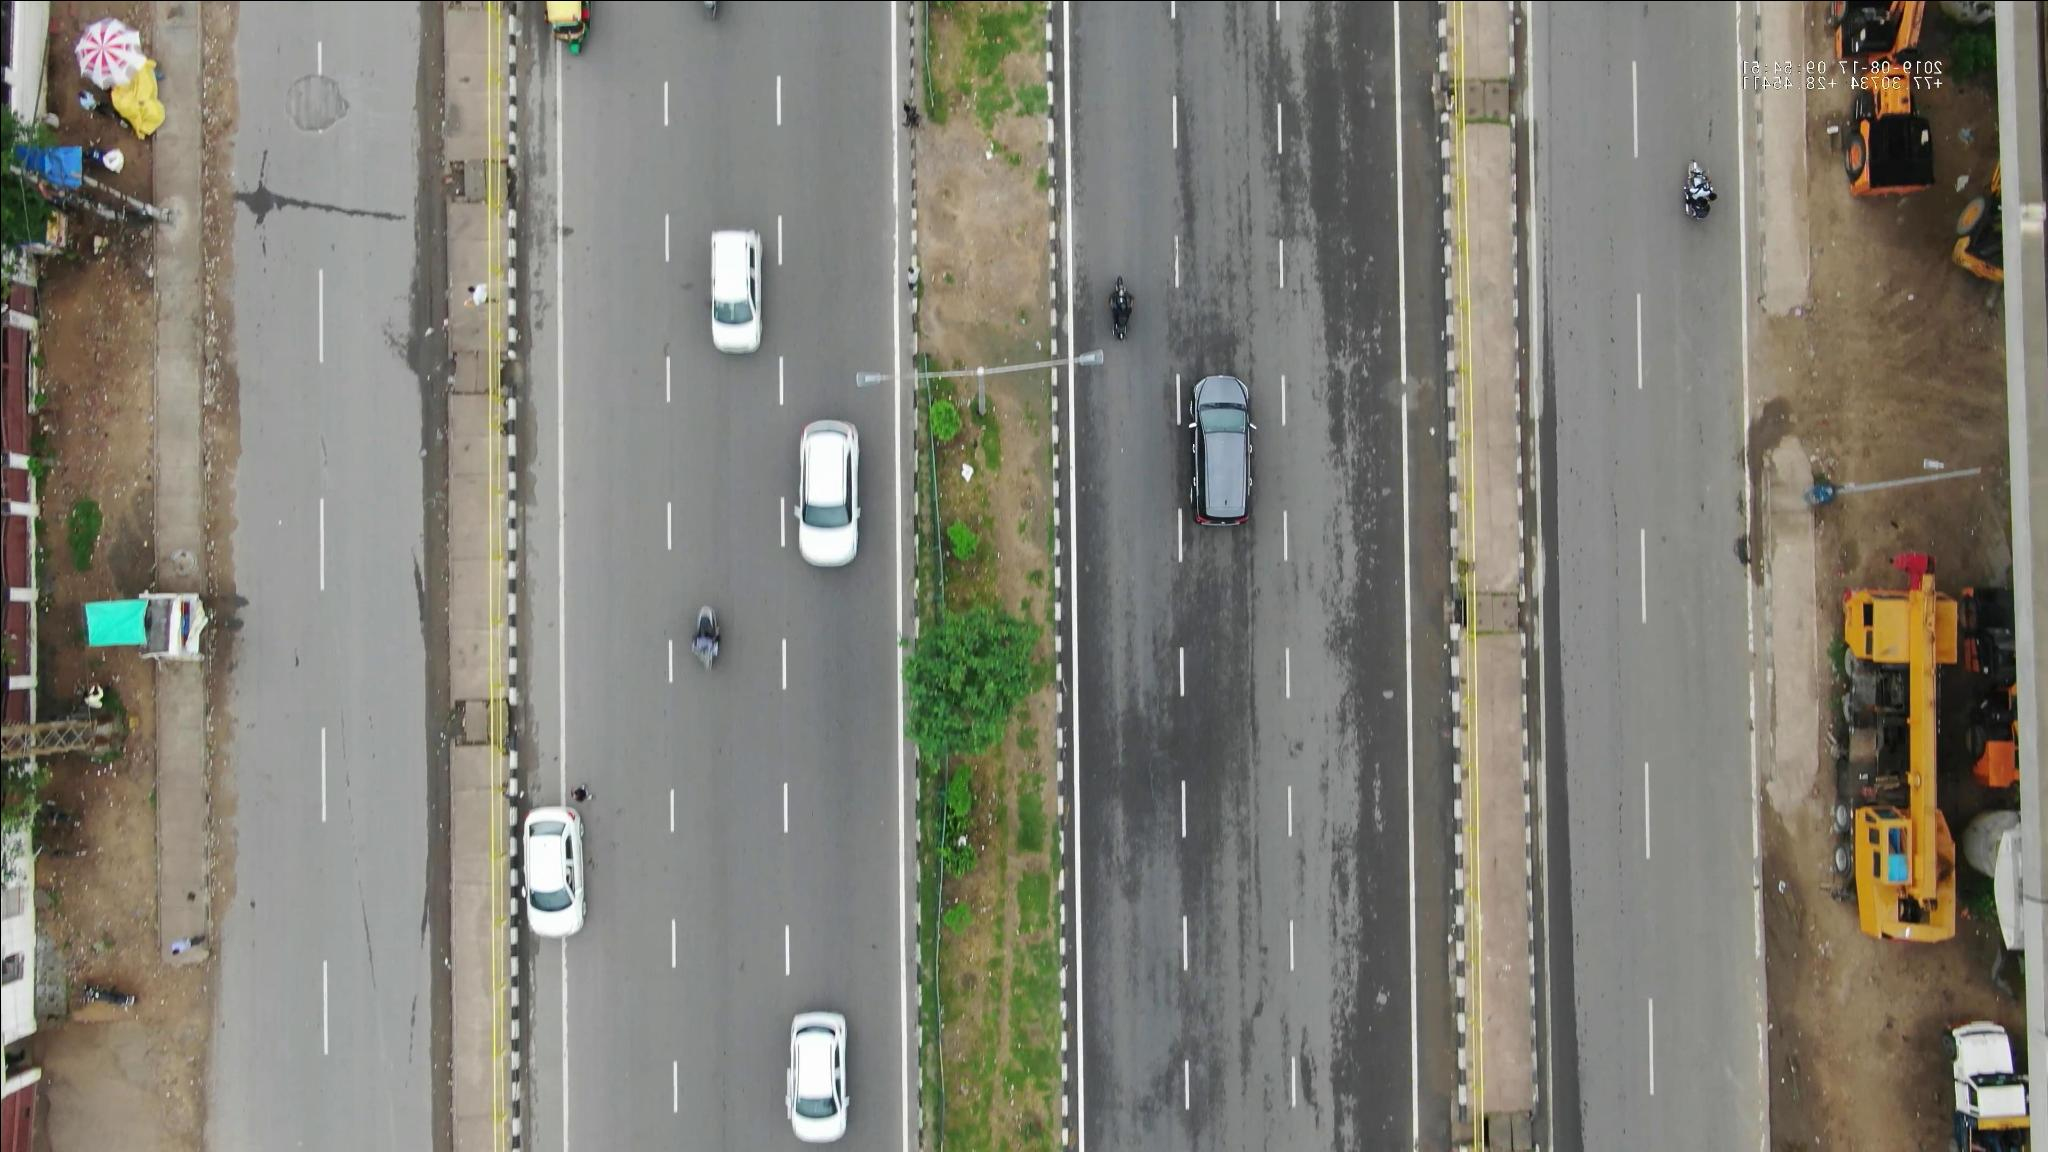Muddy_road: (200, 8, 250, 316), (201, 339, 259, 568)
